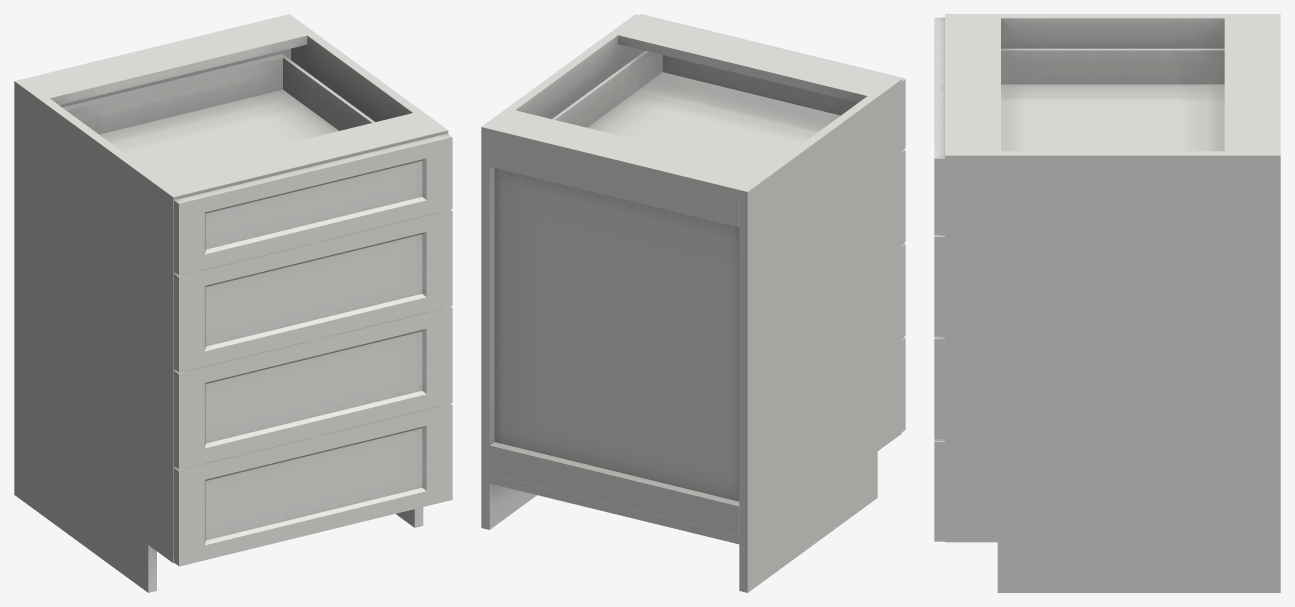
The model's file is 4-drawer-bank-base-doors-on.glb.
The picture shows the model from 3 angles, left to right: view 1: azimuth 30°, elevation 25°; view 2: azimuth 150°, elevation 25°; view 3: azimuth 270°, elevation 25°; orthographic projection. The views are drawn at different scales.
Parts seen in each view (by area): view 1: part_15, part_0, part_12; view 2: part_0, part_12, part_15; view 3: part_0, part_12, part_15.
Boxes of the visible parts, bbox=[...] form: part_15: bbox=[174, 133, 452, 566]; part_0: bbox=[14, 14, 448, 592]; part_12: bbox=[62, 54, 374, 175]; part_0: bbox=[481, 14, 901, 592]; part_12: bbox=[552, 51, 840, 170]; part_15: bbox=[639, 14, 905, 432]; part_0: bbox=[945, 14, 1280, 592]; part_12: bbox=[1001, 48, 1224, 151]; part_15: bbox=[934, 17, 944, 541].
Size of the model in its own units: 0.6096 by 0.8763 by 0.6286.
Materials: 3 (2 with a texture image).
